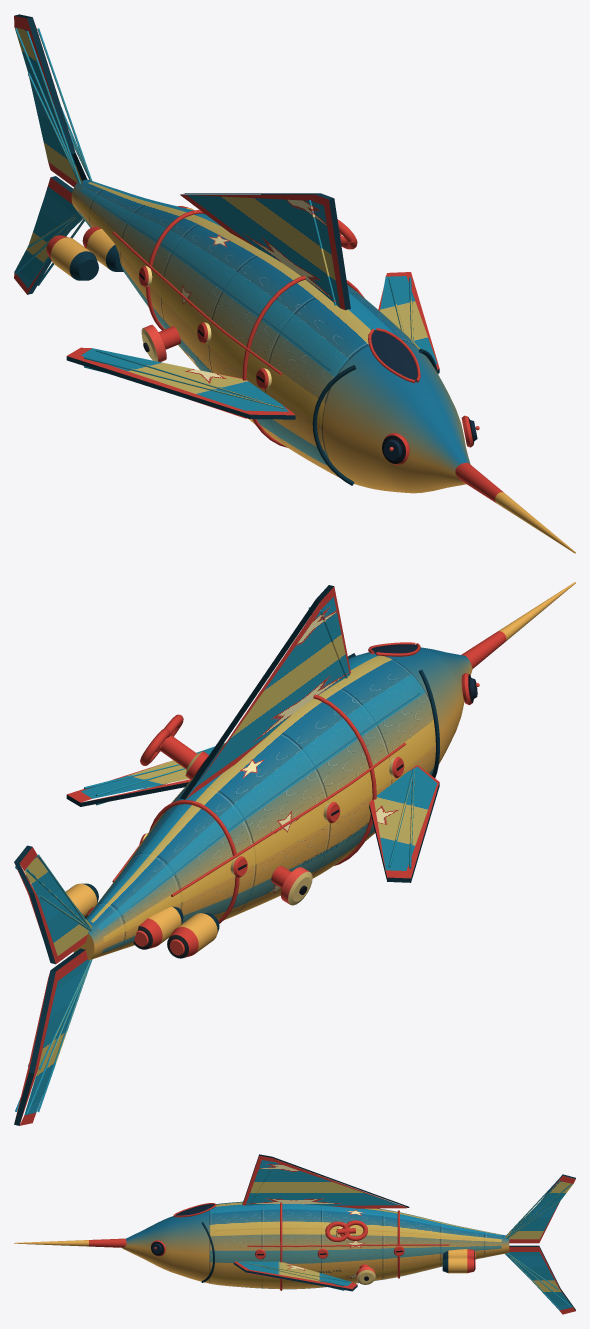
The picture shows the model from 3 angles, top to bottom: view 1: azimuth 30°, elevation 25°; view 2: azimuth 150°, elevation 25°; view 3: azimuth 270°, elevation 25°; orthographic projection. The views are drawn at different scales.
Parts seen in each view (by area): view 1: marlin_hull; view 2: marlin_hull; view 3: marlin_hull.
Part boxes in pixels (x1,y1,x2,y2): marlin_hull: (14,14,575,553); marlin_hull: (14,582,575,1125); marlin_hull: (14,1154,575,1314).
Size of the model in its own units: 29.91 by 26.23 by 84.
Materials: 1 (1 with a texture image).
